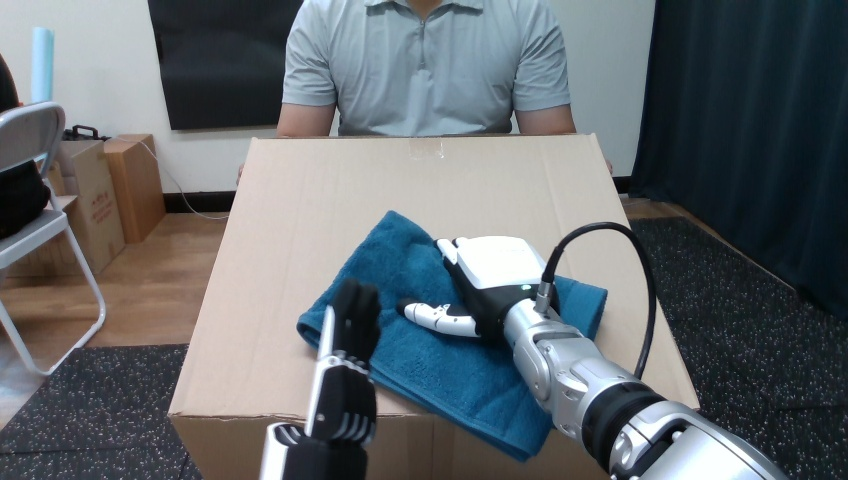left robot hand: (398, 222, 785, 479), (259, 278, 380, 479), (553, 229, 649, 374)
